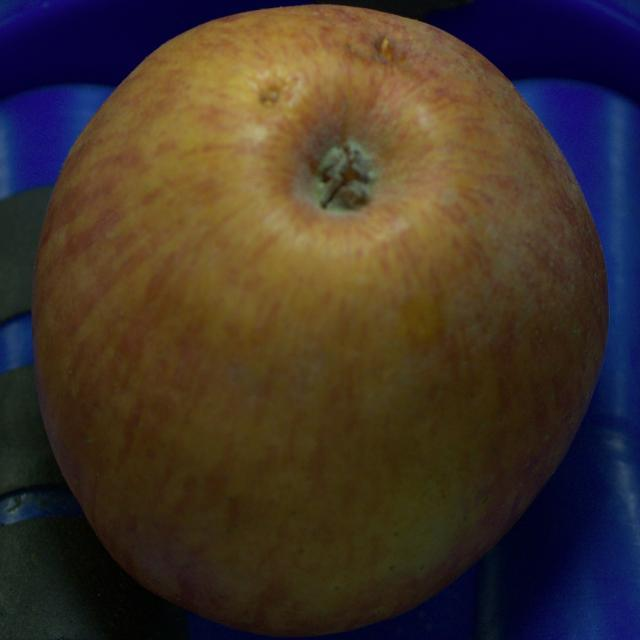apple: (32, 5, 608, 636)
pest: (378, 36, 392, 60), (261, 88, 279, 104)
